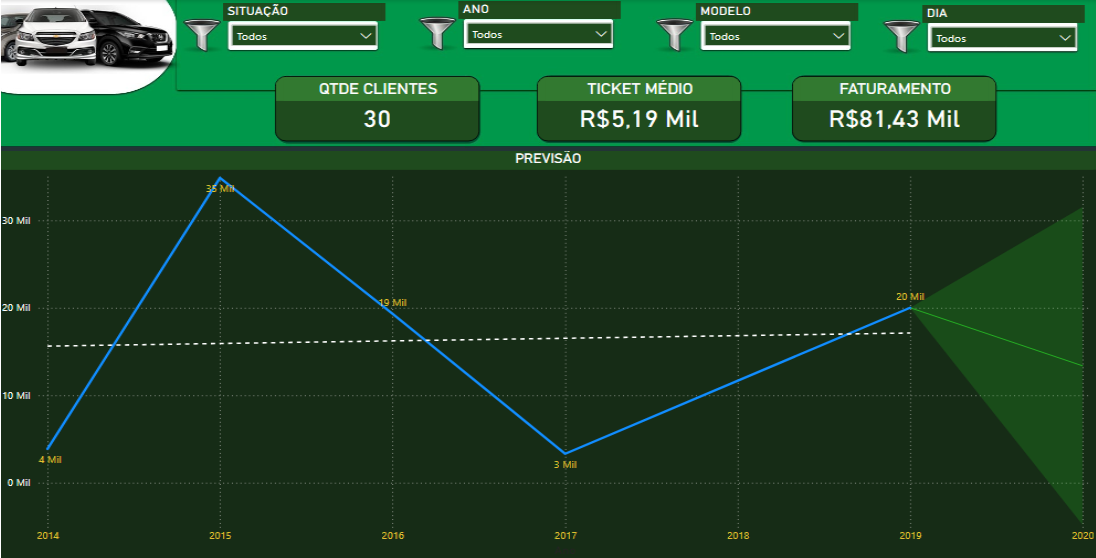

The page's visual inventory and layout, read from the dashboard file:
{"tool":"powerbi","page":{"name":"PREVISÃO","canvas":[1280,720],"ordinal":3},"visuals":[{"type":"slicer","title":"SITUAÇÃO","fields":{"Values":["tb_km.SITUAÇÃO CADASTRAL"]},"box":[262.2,3.9,188.9,83.5],"z":0},{"type":"slicer","title":"ANO","fields":{"Values":["tb_km.DATA.Variation.Hierarquia de datas.Ano"]},"box":[535.9,1.3,188.9,83.5],"z":1000},{"type":"slicer","title":"MODELO","fields":{"Values":["tb_km.MODELO"]},"box":[812.2,3.9,188.9,83.5],"z":2000},{"type":"slicer","title":"DIA","fields":{"Values":["tb_km.DATA.Variation.Hierarquia de datas.Dia"]},"box":[1075.7,6.4,188.9,83.5],"z":3000},{"type":"card","title":"QTDE CLIENTES","fields":{"Values":["CountNonNull(tb_km.ID_CLIENTE)"]},"box":[322.6,97.7,237.8,83.5],"z":4000},{"type":"card","title":"TICKET MÉDIO","fields":{"Values":["MEDIDAS.TICKET MEDIO SALARIO"]},"box":[627.1,97.7,237.8,83.5],"z":5000},{"type":"card","title":"FATURAMENTO","fields":{"Values":["Sum(tb_km.TOTAL VENDA)"]},"box":[924,97.7,237.8,83.5],"z":6000},{"type":"lineChart","title":"PREVISÃO","fields":{"Category":["tb_km.DATA.Variation.Hierarquia de datas.Ano","tb_km.DATA.Variation.Hierarquia de datas.Trimestre","tb_km.DATA.Variation.Hierarquia de datas.Mês","tb_km.DATA.Variation.Hierarquia de datas.Dia"],"Y":["Sum(tb_km.TT VENDA)"]},"box":[0,194.1,1280,525.6],"z":7000}]}

Visuals, with their boxes on the page's 1280x720 design canvas (x1, y1, x2, y2). These are canvas units, not pixel positions in the 1096x558 screenshot, which may show the page scaled, cropped or inside an application window:
"SITUAÇÃO" slicer: [262, 4, 451, 87]
"ANO" slicer: [536, 1, 725, 85]
"MODELO" slicer: [812, 4, 1001, 87]
"DIA" slicer: [1076, 6, 1265, 90]
"QTDE CLIENTES" card: [323, 98, 560, 181]
"TICKET MÉDIO" card: [627, 98, 865, 181]
"FATURAMENTO" card: [924, 98, 1162, 181]
"PREVISÃO" lineChart: [0, 194, 1280, 720]
